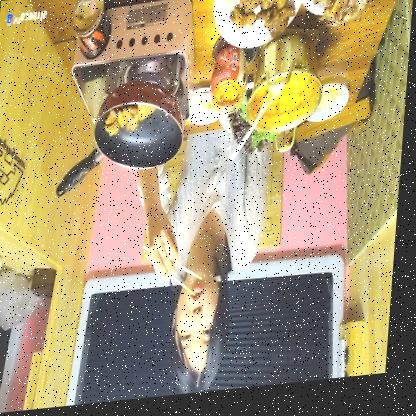streamer: (123, 129, 272, 404)
